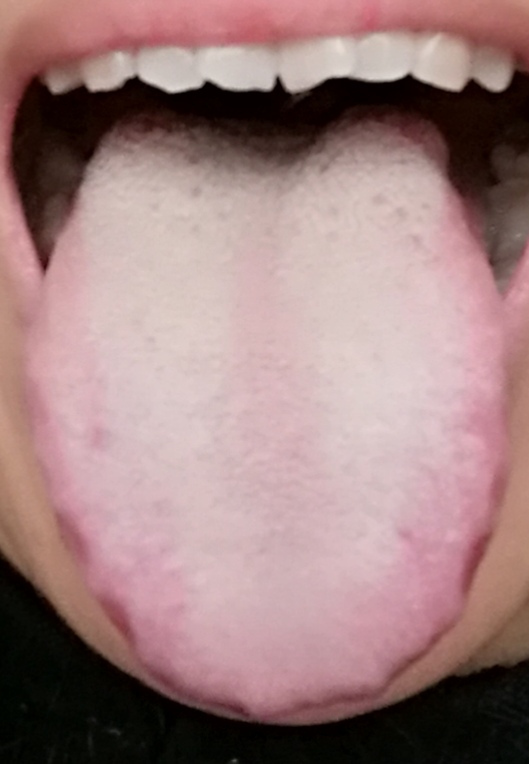baitaishe: (29, 118, 513, 716)
chihenshe: (31, 449, 245, 708), (383, 468, 509, 692)
